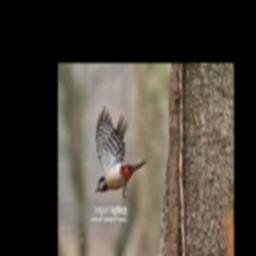Woodpecker: (95, 105, 147, 200)
